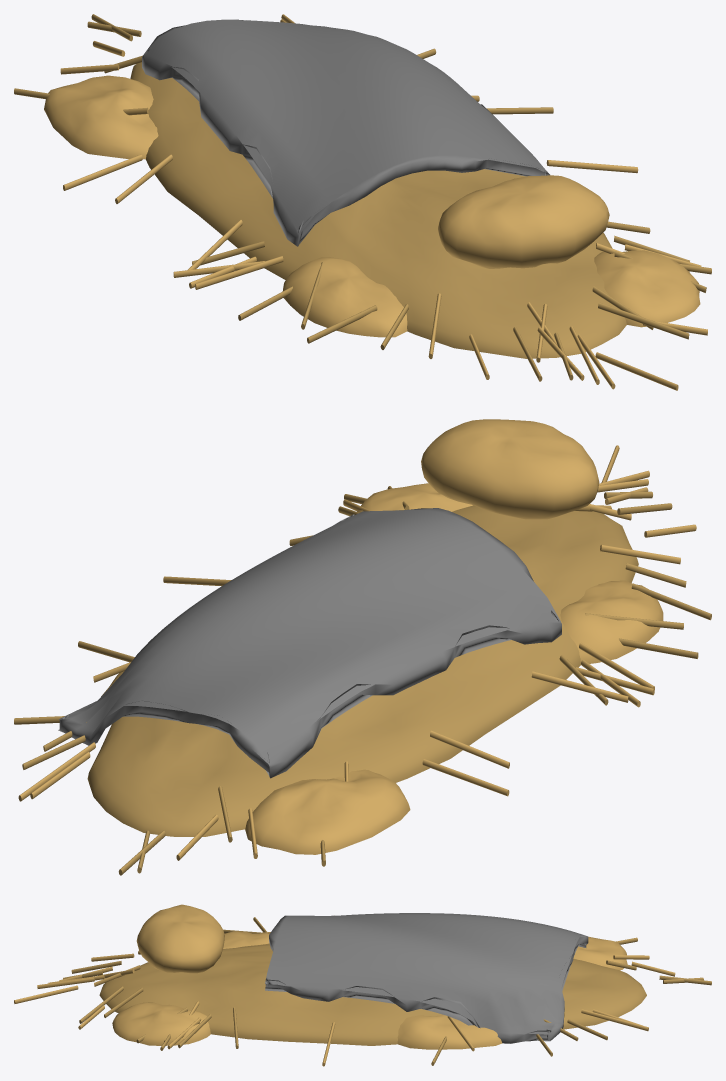
The model's file is detail_straw_bed.glb.
3 views of the same model, one above another, from view 1: azimuth 30°, elevation 25°; view 2: azimuth 150°, elevation 25°; view 3: azimuth 270°, elevation 25° (orthographic). The views are drawn at different scales.
Parts seen in each view (by area): view 1: straw, cloth; view 2: straw, cloth; view 3: straw, cloth.
Part boxes in pixels (x1,y1,x2,y2): straw: (14, 14, 711, 390); cloth: (142, 19, 549, 246); straw: (14, 419, 711, 875); cloth: (58, 508, 561, 778); straw: (14, 904, 711, 1066); cloth: (265, 913, 588, 1043).
Size of the model in its own units: 1.2 by 0.3 by 2.4.
